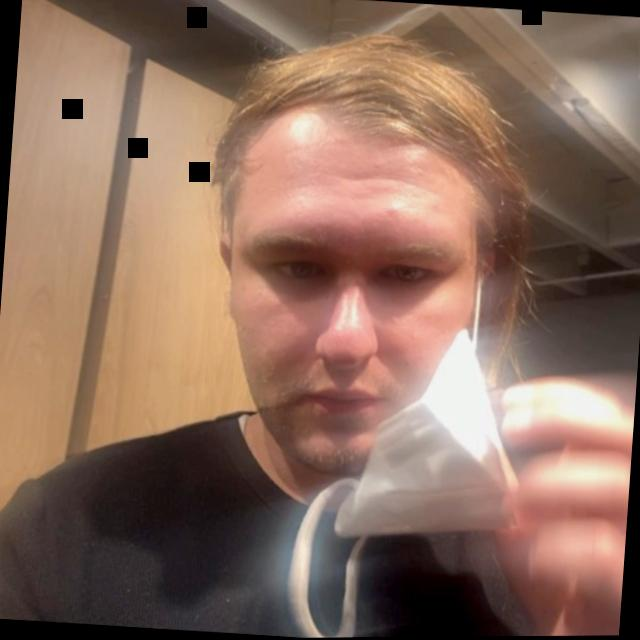NO-Mask: (160, 26, 530, 545)
